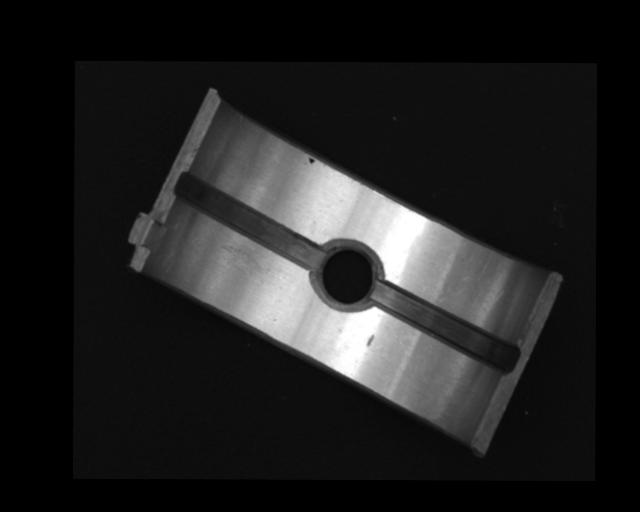blot: (306, 155, 315, 164)
bruise: (366, 333, 375, 347)
gap: (372, 281, 519, 374), (176, 177, 322, 270)
hole: (314, 241, 379, 314)
scratch: (210, 224, 273, 286)
